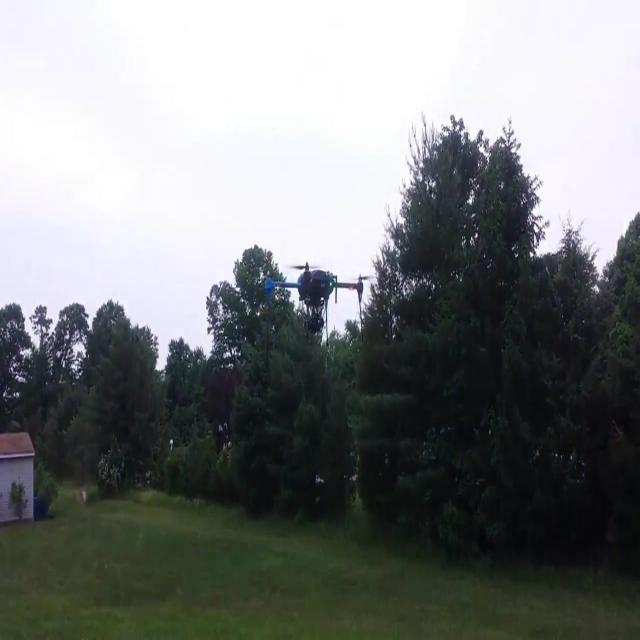UAV: (265, 262, 375, 347)
